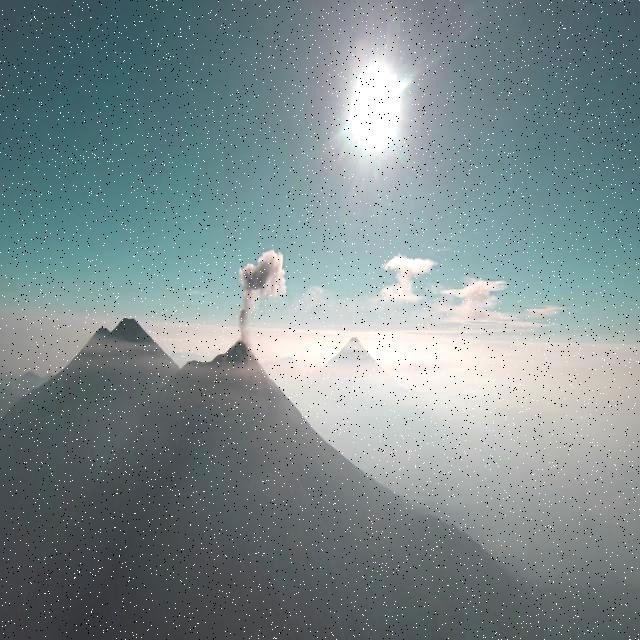Plume: (237, 248, 290, 340)
Summit: (182, 336, 260, 374)
